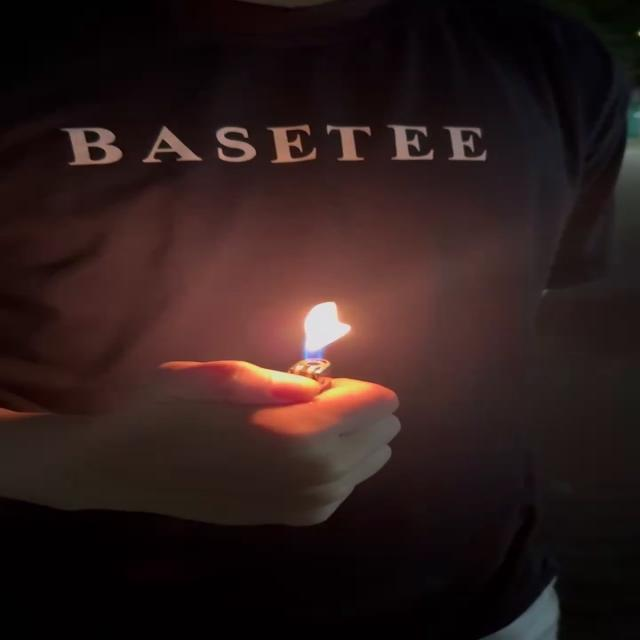Fire: (301, 301, 354, 364)
